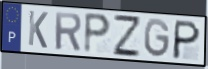G: (143, 17, 171, 59)
K: (27, 9, 49, 50)
P: (82, 11, 113, 55), (171, 19, 202, 61)
R: (53, 11, 83, 52)
Z: (113, 13, 142, 59)
